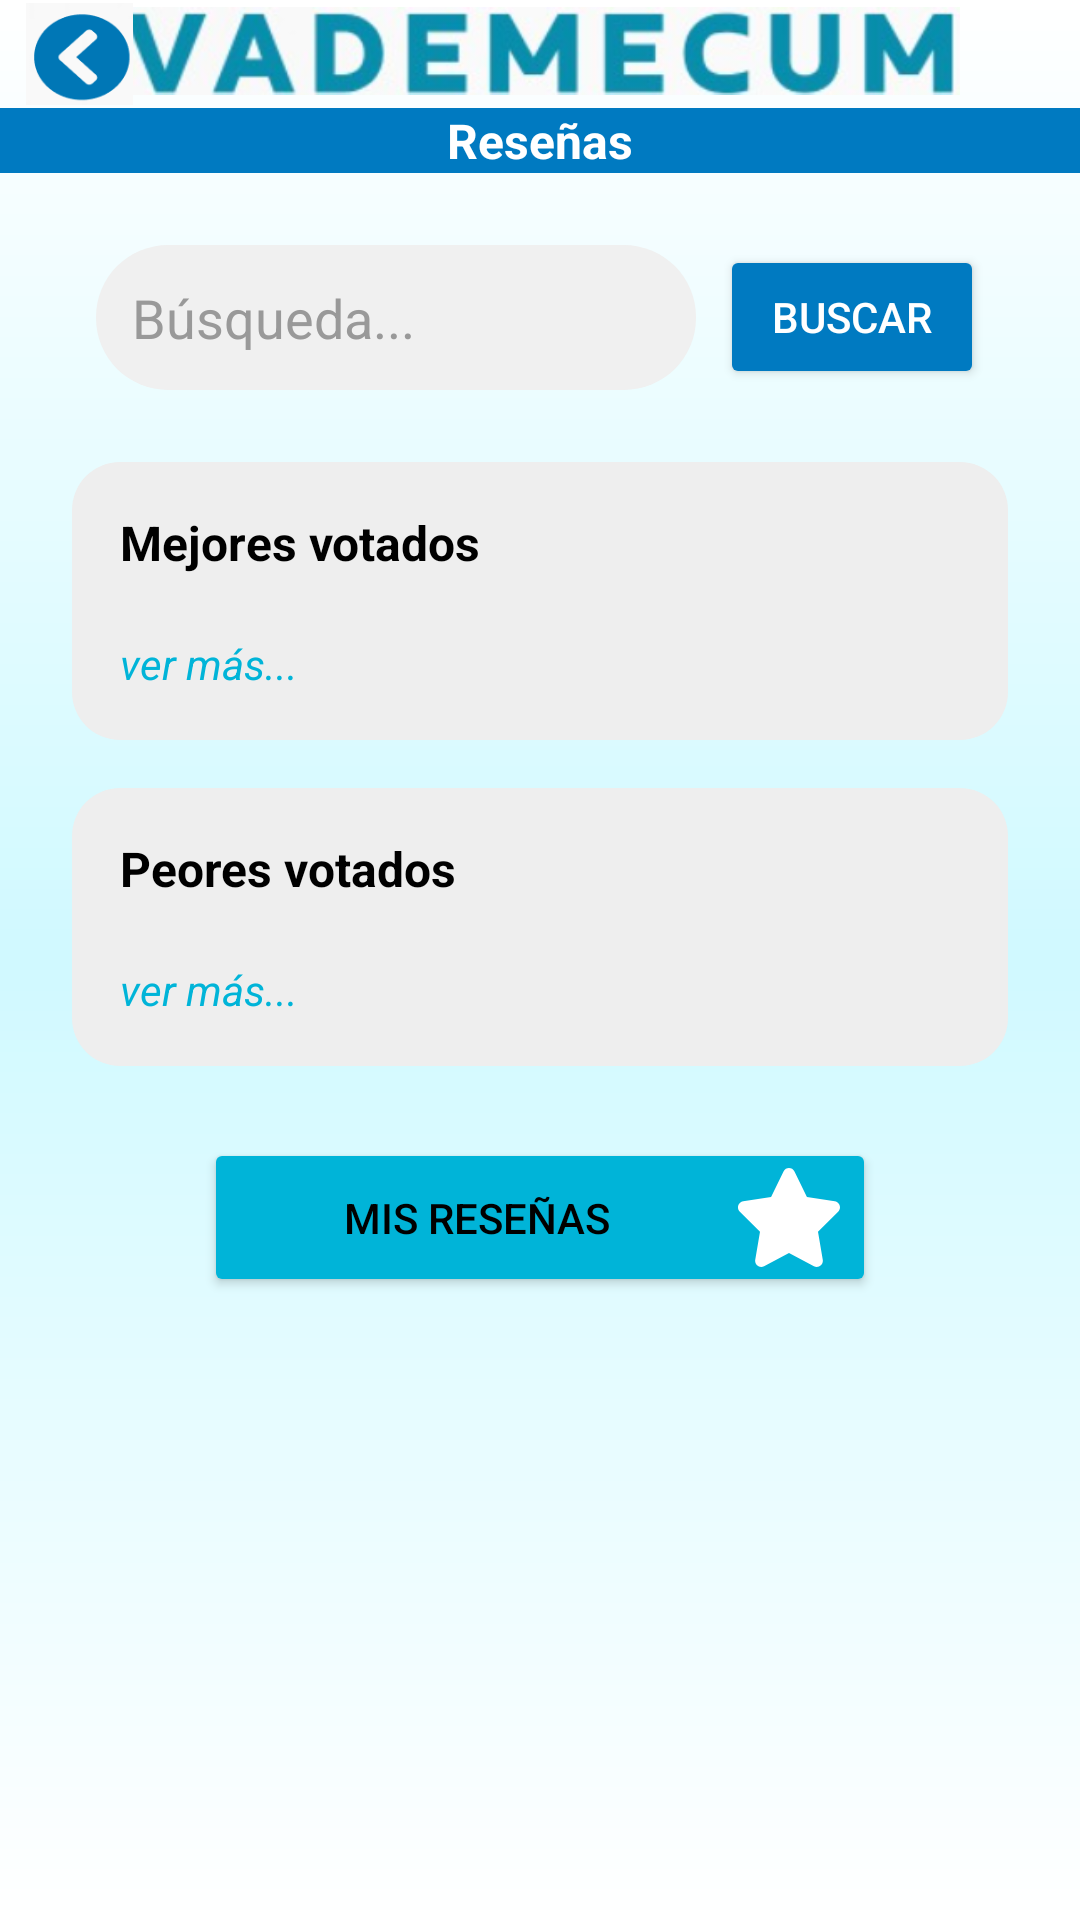

Screen size 1080px×1920px. Icon name, then its center in pixels as (x=x, y=y):
imgatras: (x=82, y=57)
